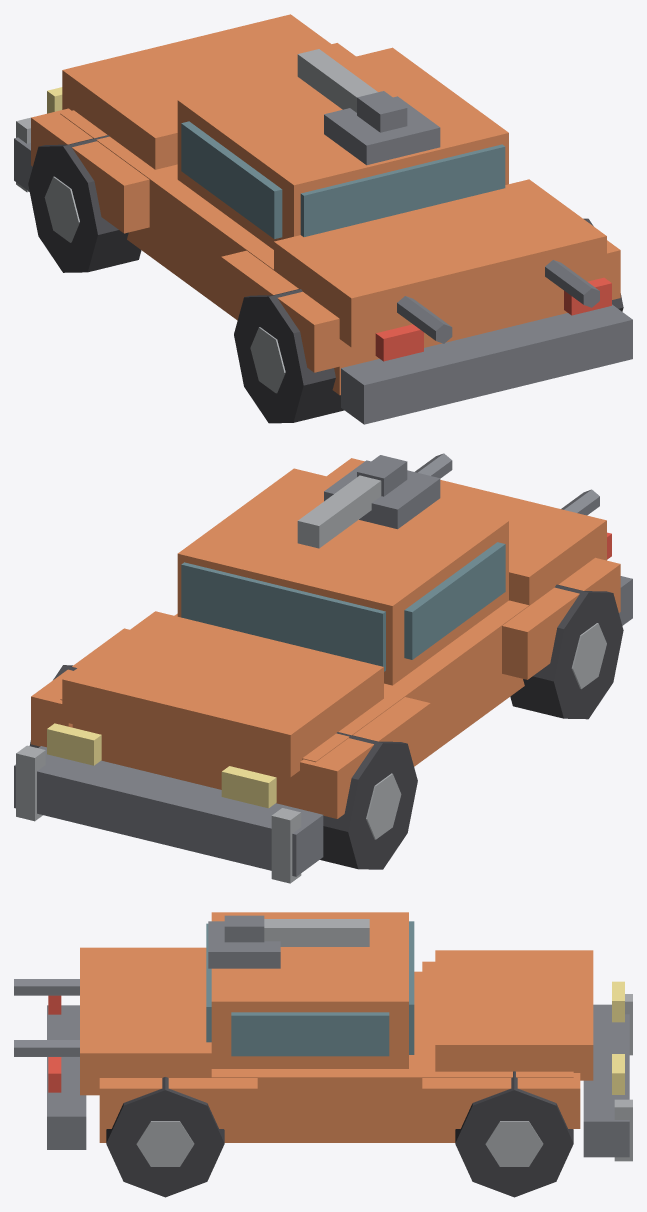
Rendered from wasteland_car.glb.
3 renders of one model, top to bottom at view 1: azimuth 30°, elevation 25°; view 2: azimuth 150°, elevation 25°; view 3: azimuth 270°, elevation 25°, orthographic. The views are drawn at different scales.
Visible parts, largest first — view 1: Car_Paint, Car_Details; view 2: Car_Paint, Car_Details; view 3: Car_Paint, Car_Details.
Boxes of the visible parts, box(x1,y1,x2,y2) form: Car_Paint: box(31, 14, 620, 395); Car_Details: box(14, 49, 632, 424); Car_Paint: box(31, 458, 620, 818); Car_Details: box(14, 453, 632, 883); Car_Paint: box(80, 912, 593, 1142); Car_Details: box(14, 915, 632, 1197).
Bounding box in the file's own units: 2.4 × 1.76 × 4.7.
